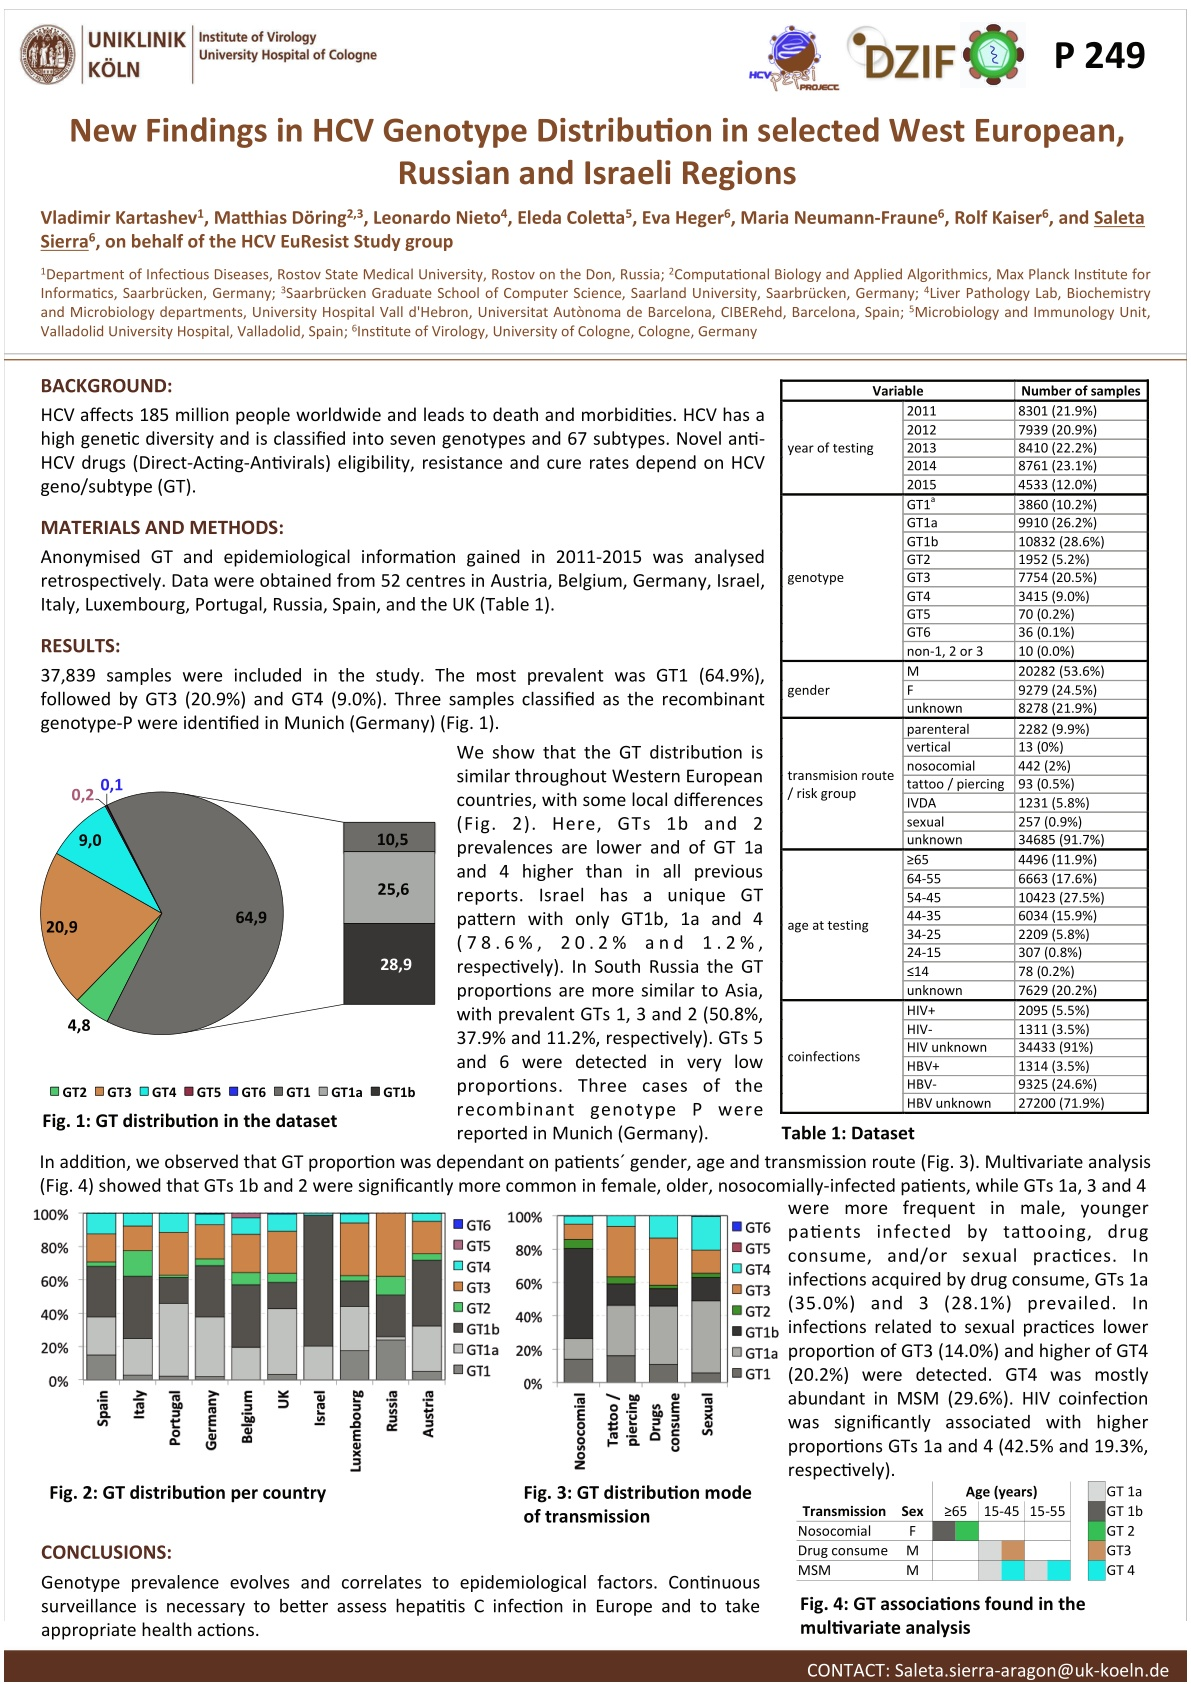merged_cells: (780, 378, 1148, 1115), (795, 1480, 1071, 1581)
